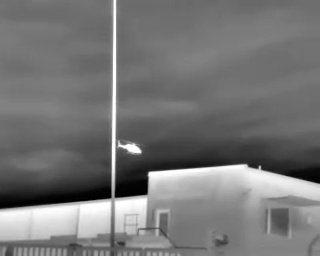HELICOPTER: (115, 135, 149, 160)
